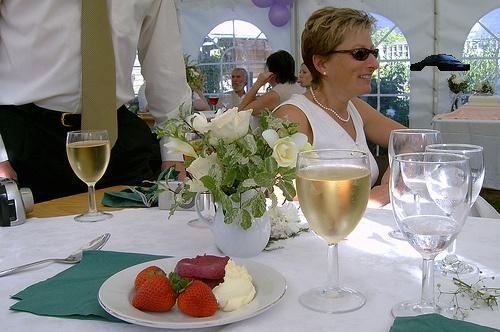tampered: (411, 55, 470, 71)
